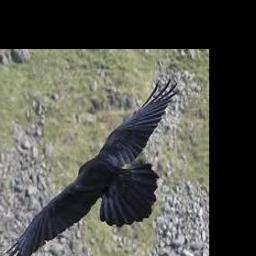Crow: (0, 79, 179, 256)
